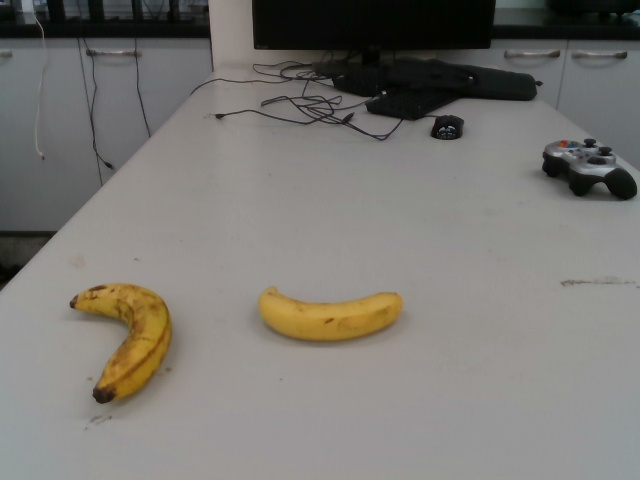banana: (69, 283, 173, 404), (254, 285, 405, 344)
